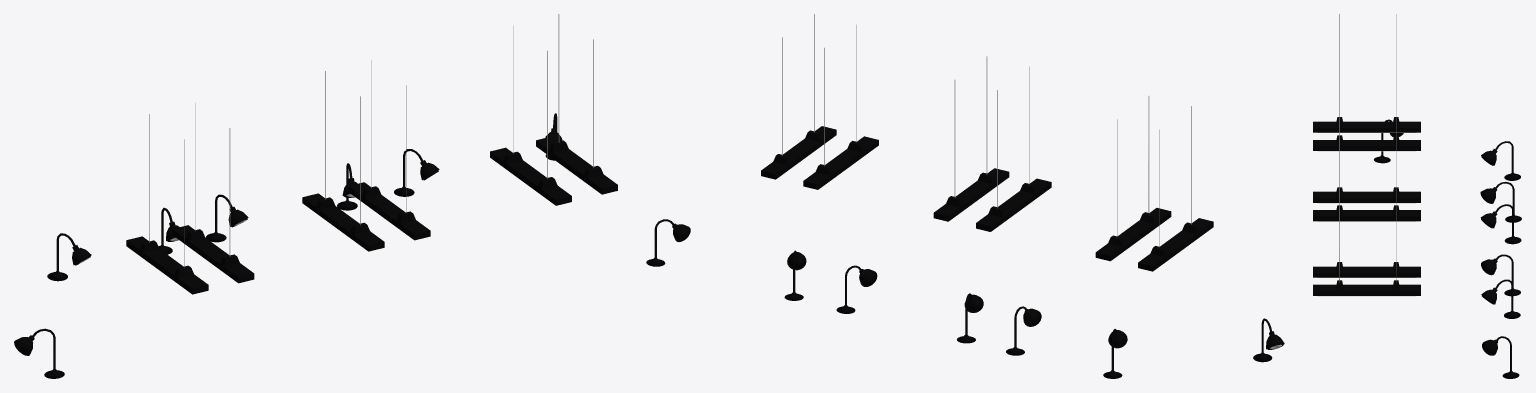
Rendered from light.fbx.
3 views of the same model, side by side, from view 1: azimuth 30°, elevation 25°; view 2: azimuth 150°, elevation 25°; view 3: azimuth 270°, elevation 25° (orthographic). The views are drawn at different scales.
Parts seen in each view (by area): view 1: 조명; view 2: 조명; view 3: 조명.
Part boxes in pixels (box(x1,y1,x2,y2)): 조명: box(14, 14, 617, 378); 조명: box(646, 14, 1284, 378); 조명: box(1313, 14, 1521, 378).
Bounding box in the file's own units: 215 × 76.16 × 76.96.
